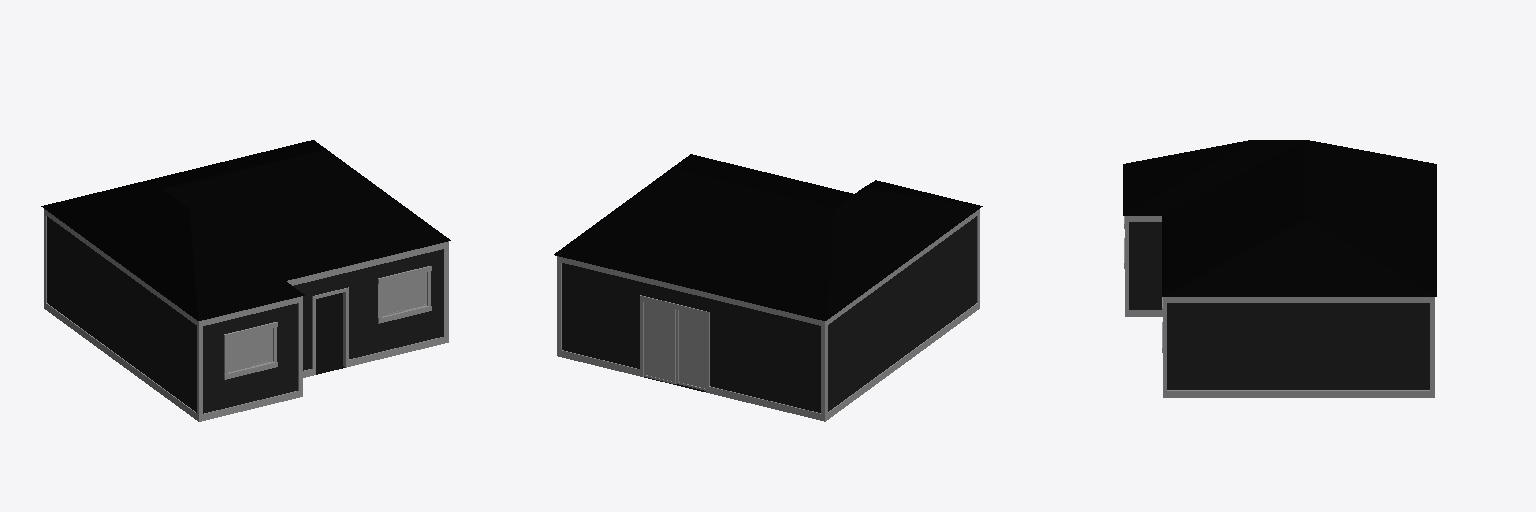
Rendered from casa.obj.
3 renders of one model, left to right at view 1: azimuth 30°, elevation 25°; view 2: azimuth 150°, elevation 25°; view 3: azimuth 270°, elevation 25°, orthographic.
Parts seen in each view (by area): view 1: Vert, Vert.003, Vert.004; view 2: Vert, Vert.002; view 3: Vert.
Part boxes in pixels (bbox=[...]): Vert: bbox=[41, 140, 450, 421]; Vert.003: bbox=[404, 273, 426, 310]; Vert.004: bbox=[250, 329, 272, 366]; Vert: bbox=[554, 154, 982, 421]; Vert.002: bbox=[644, 302, 675, 383]; Vert: bbox=[1123, 140, 1436, 397].
Bounding box in the file's own units: 16.55 × 8.94 × 16.55.